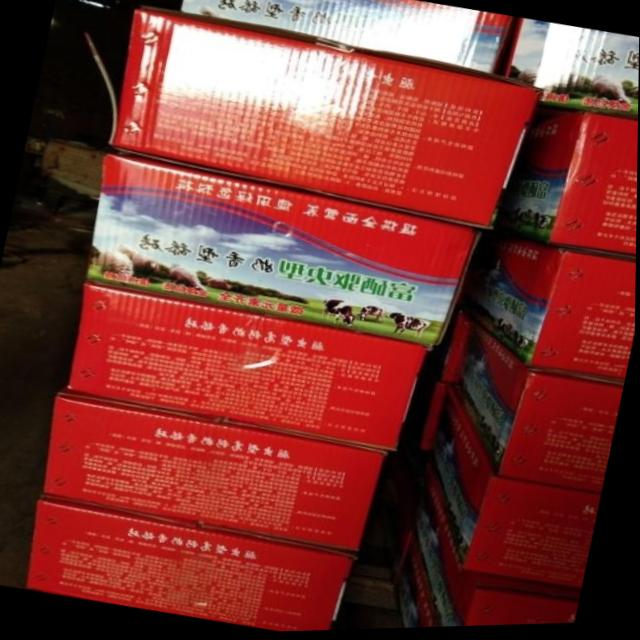box: (112, 9, 542, 235), (86, 152, 480, 352), (67, 283, 431, 455), (45, 392, 385, 553), (27, 497, 356, 633), (428, 398, 601, 595), (456, 328, 625, 499), (389, 495, 581, 631), (179, 0, 514, 77), (480, 240, 637, 391), (508, 114, 638, 265), (501, 22, 639, 123)
